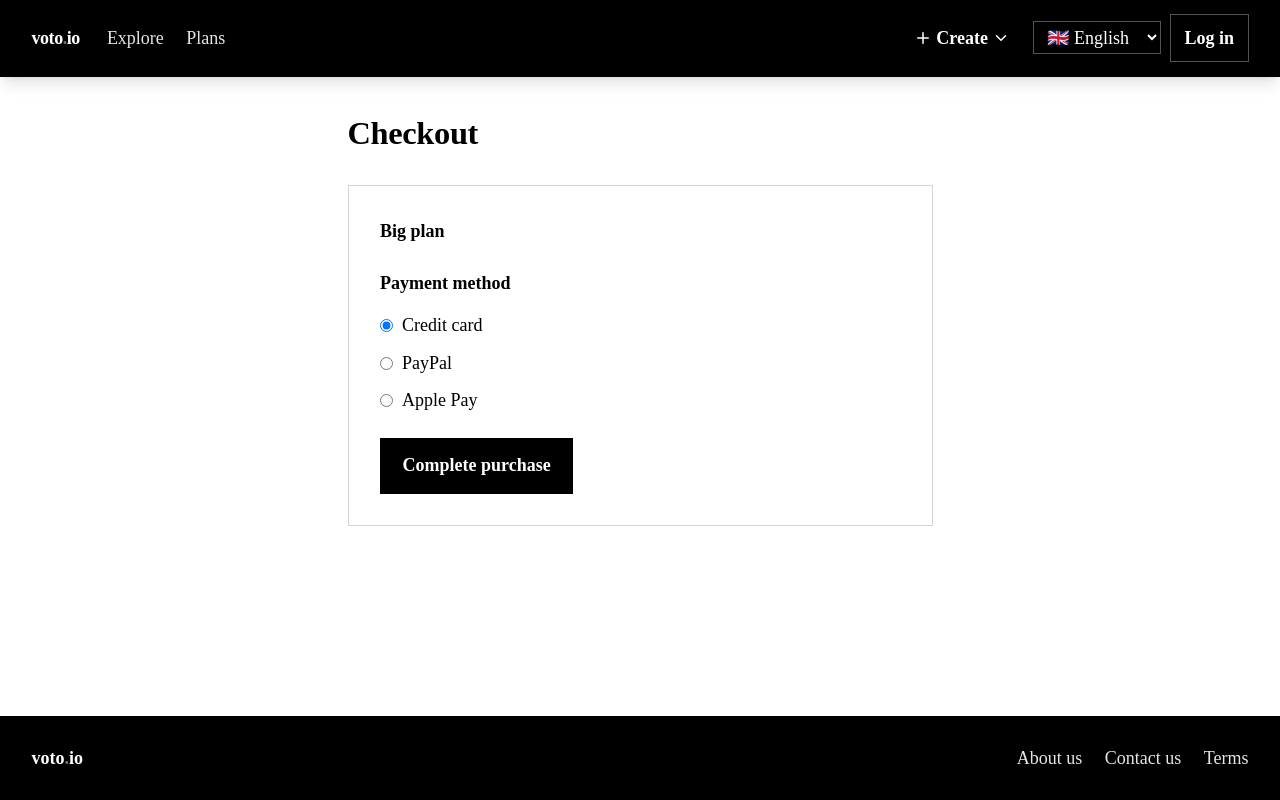
Test case: changes the URL language, preserves the page, and localizes links and form navigation
This screenshot has width=1280, height=800.
Select "🇮🇹 Italiano" in the dropdown named "Language" at [1097, 38], box [1033,21,1161,54]
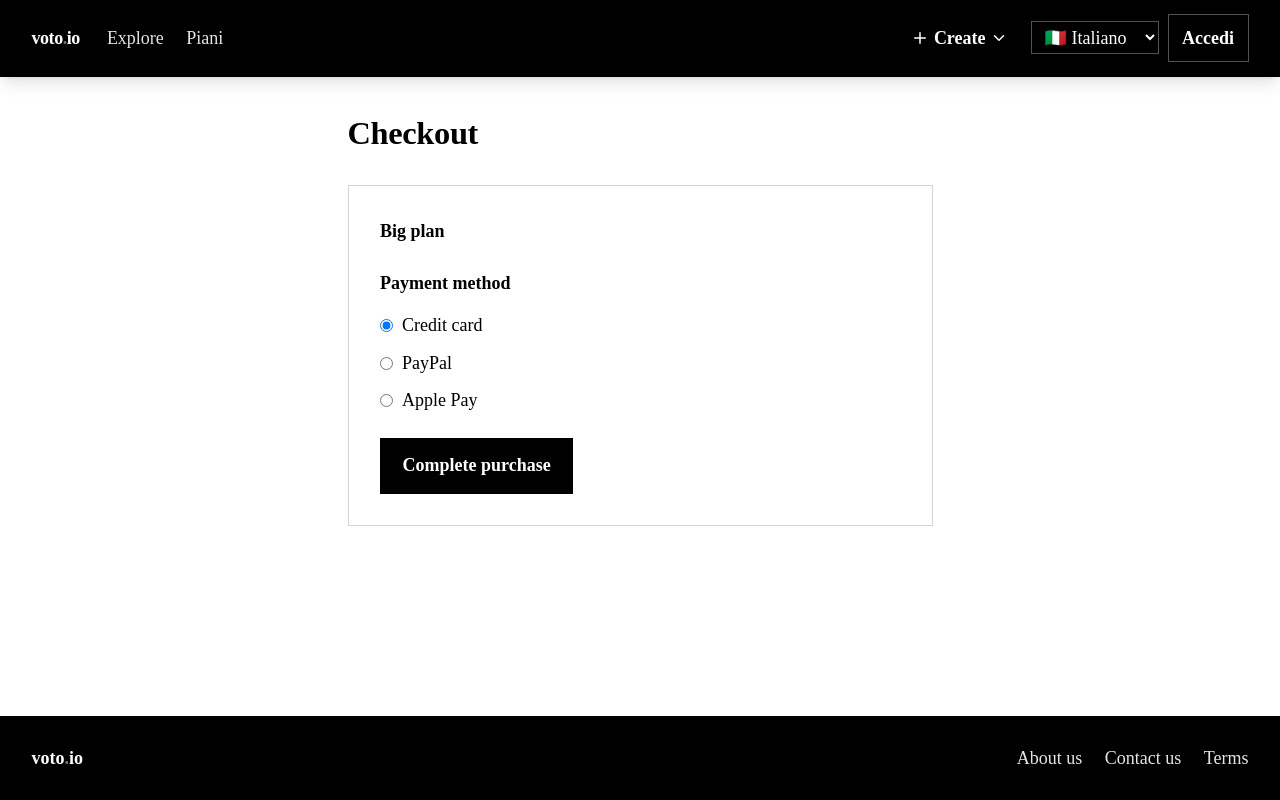
Click the button "Complete purchase" at [477, 466], box [380,438,573,494]
(page scrolled)
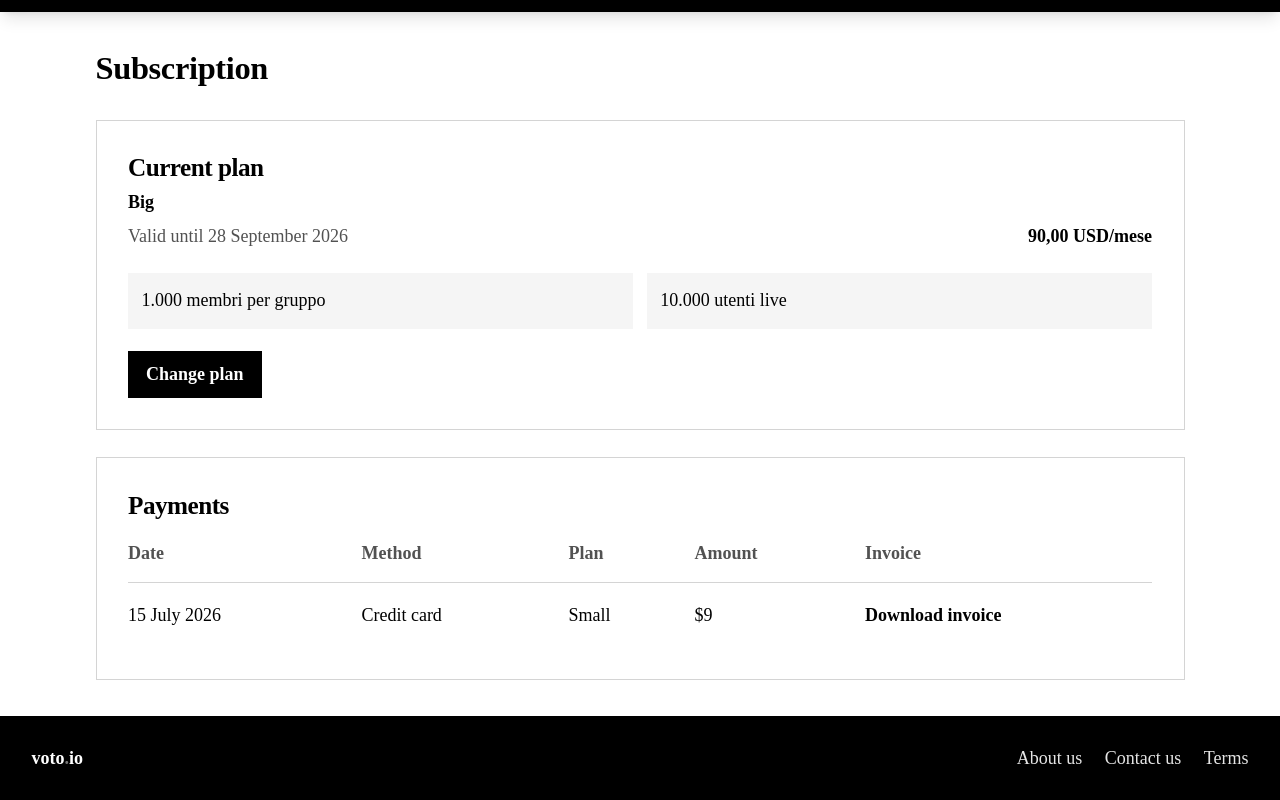
Click the link "Terms" at [1226, 758], box [1204,744,1248,773]
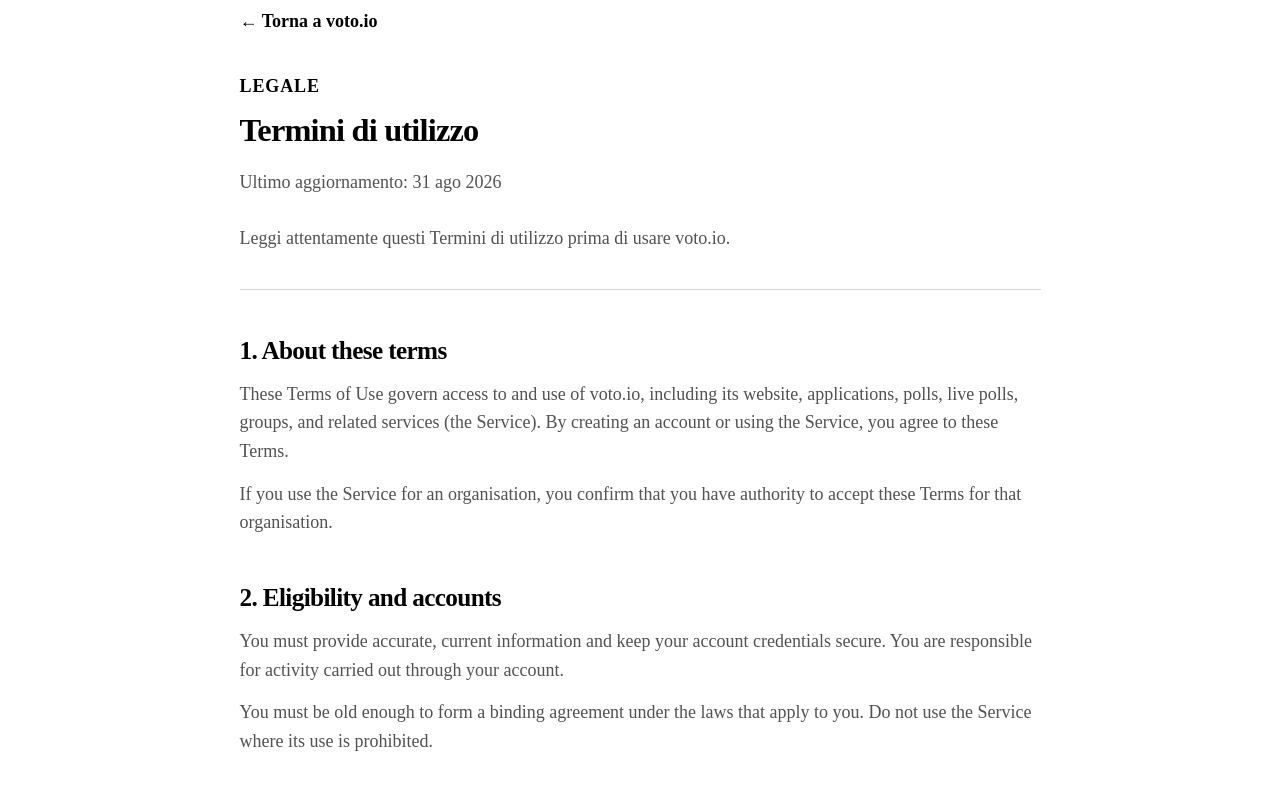
Check: the heading "Termini di utilizzo" is shown, box [240,112,478,148]
